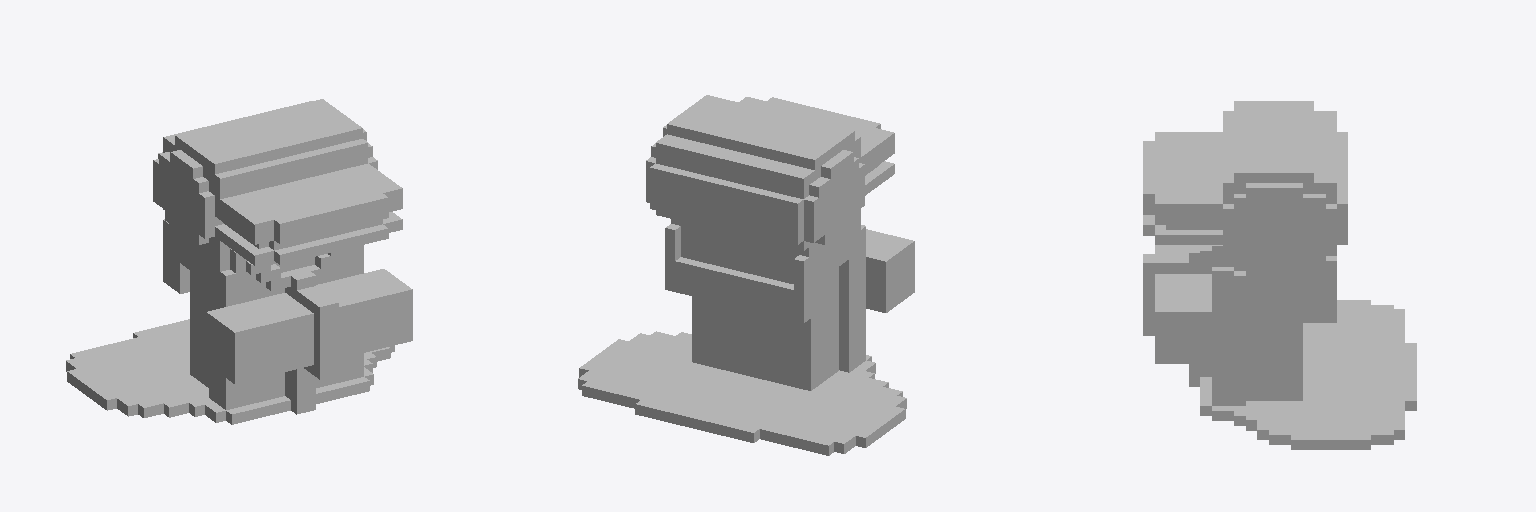
File: snake.obj
The picture shows the model from 3 angles: view 1: azimuth 30°, elevation 25°; view 2: azimuth 150°, elevation 25°; view 3: azimuth 270°, elevation 25°; orthographic projection.
Visible parts, largest first — view 1: object 1; view 2: object 1; view 3: object 1.
Part boxes in pixels (x1,y1,x2,y2): object 1: (66, 99, 412, 424); object 1: (578, 95, 914, 455); object 1: (1143, 101, 1416, 449).
Size of the model in its own units: 2.9 by 2.4 by 2.4.